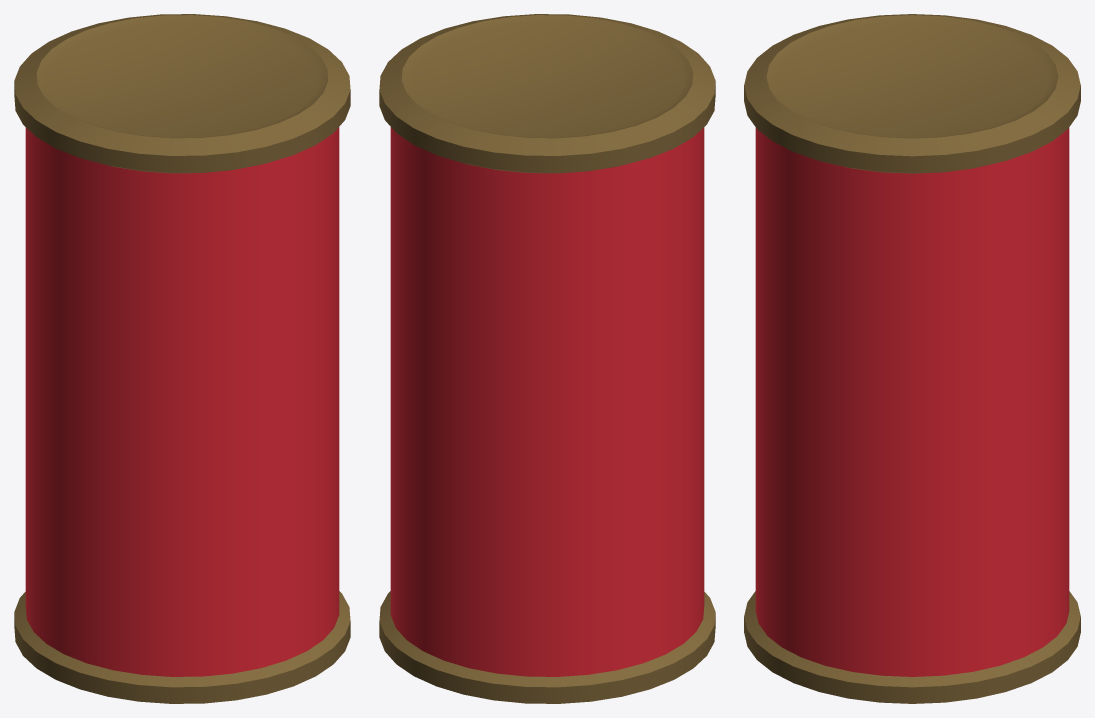
File: barrel.glb
3 renders of one model, left to right at view 1: azimuth 30°, elevation 25°; view 2: azimuth 150°, elevation 25°; view 3: azimuth 270°, elevation 25°, orthographic.
Visible parts, largest first — view 1: barrel; view 2: barrel; view 3: barrel.
Boxes of the visible parts, <box> form: barrel: <box>14,14,350,703</box>; barrel: <box>379,14,715,703</box>; barrel: <box>744,14,1080,703</box>.
Size of the model in its own units: 0.673 by 1.24 by 0.673.
